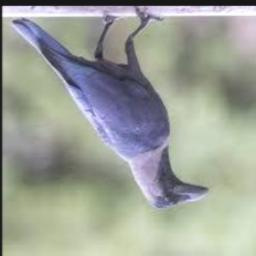Crow: (10, 9, 207, 210)
